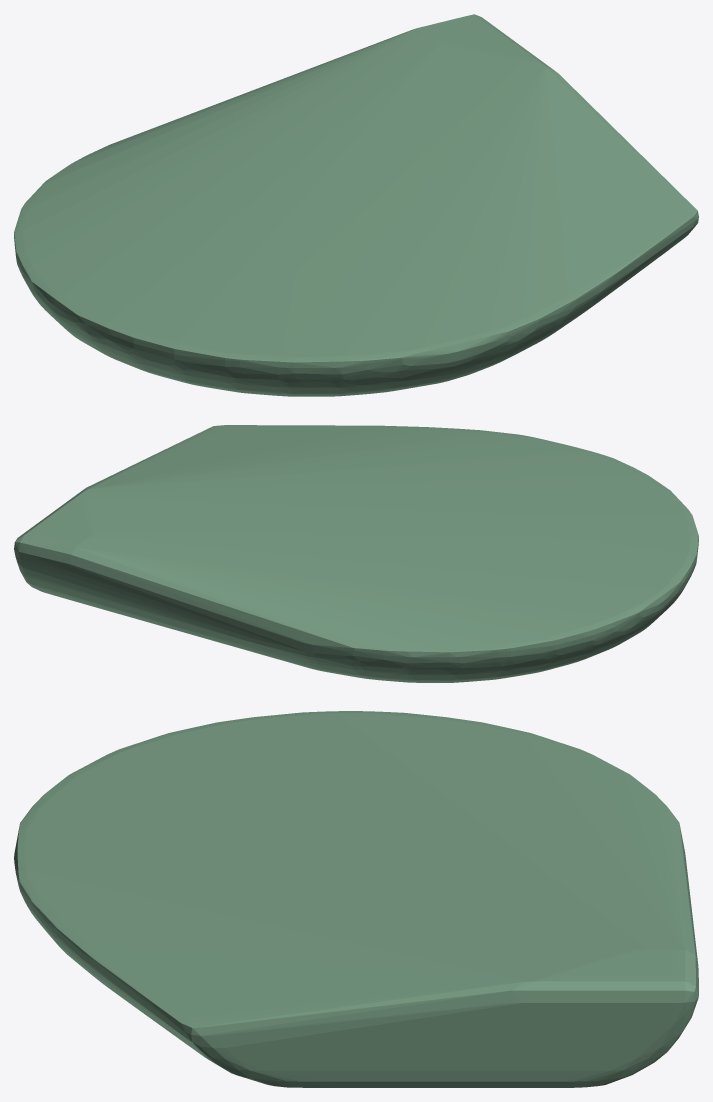
The model's file is left_elbow_link_part_0.obj.
3 renders of one model, top to bottom at view 1: azimuth 30°, elevation 25°; view 2: azimuth 150°, elevation 25°; view 3: azimuth 270°, elevation 25°, orthographic. The views are drawn at different scales.
Bounding box in the file's own units: 0.0901 × 0.0147 × 0.0816.
